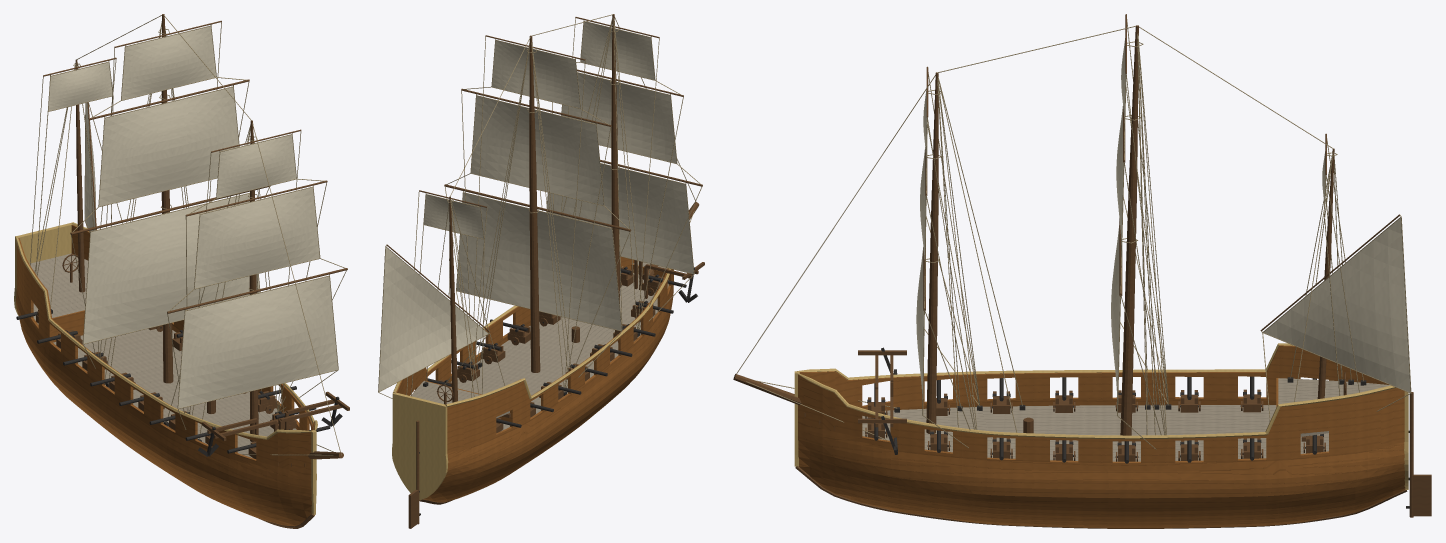
3 views of the same model, side by side, from view 1: azimuth 30°, elevation 25°; view 2: azimuth 150°, elevation 25°; view 3: azimuth 270°, elevation 25° (orthographic). The views are drawn at different scales.
Visible parts, largest first — view 1: lod2_hull_shell_starboard, lod2_fore_square_00, lod2_main_square_00, lod2_main_square_01, lod2_fore_square_01, lod2_main_deck, lod2_main_square_02, lod2_fore_square_02, lod2_castle_deck_0, lod2_mizzen_square_00, lod2_stern_closure, lod2_gunwale_starboard (+11 smaller); view 2: lod2_hull_shell_starboard, lod2_main_square_00, lod2_main_square_01, lod2_fore_square_00, lod2_mizzen_lateen_01, lod2_main_deck, lod2_fore_square_01, lod2_stern_closure, lod2_main_square_02, lod2_fore_square_02, lod2_main, lod2_hull_shell_port (+14 smaller); view 3: lod2_hull_shell_port, lod2_mizzen_lateen_01, lod2_hull_shell_starboard, lod2_main_deck, lod2_main, lod2_fore, lod2_gunwale_port, lod2_castle_deck_0, lod2_gunwale_starboard, lod2_keel, lod2_main_square_00, lod2_mizzen (+1 smaller).
Part boxes in pixels (<box>): lod2_hull_shell_starboard: <box>15,238,311,526</box>; lod2_fore_square_00: <box>178,276,337,408</box>; lod2_main_square_00: <box>83,193,259,343</box>; lod2_main_square_01: <box>99,87,238,206</box>; lod2_fore_square_01: <box>194,187,319,288</box>; lod2_main_deck: <box>33,303,296,457</box>; lod2_main_square_02: <box>121,26,216,99</box>; lod2_fore_square_02: <box>217,135,296,197</box>; lod2_castle_deck_0: <box>29,253,88,317</box>; lod2_mizzen_square_00: <box>48,62,112,111</box>; lod2_stern_closure: <box>14,222,72,315</box>; lod2_gunwale_starboard: <box>15,236,312,439</box>; lod2_hull_shell_starboard: <box>423,268,673,502</box>; lod2_main_square_00: <box>456,193,621,330</box>; lod2_main_square_01: <box>471,96,603,205</box>; lod2_fore_square_00: <box>547,164,693,273</box>; lod2_mizzen_lateen_01: <box>378,247,487,391</box>; lod2_main_deck: <box>451,273,668,430</box>; lod2_fore_square_01: <box>561,73,676,163</box>; lod2_stern_closure: <box>392,392,448,499</box>; lod2_main_square_02: <box>492,40,580,108</box>; lod2_fore_square_02: <box>580,22,654,79</box>; lod2_main: <box>529,35,540,372</box>; lod2_hull_shell_port: <box>396,256,638,395</box>; lod2_hull_shell_port: <box>798,374,1405,528</box>; lod2_mizzen_lateen_01: <box>1263,218,1410,392</box>; lod2_hull_shell_starboard: <box>799,345,1388,410</box>; lod2_main_deck: <box>862,404,1328,461</box>; lod2_main: <box>1120,25,1138,435</box>; lod2_fore: <box>926,72,938,433</box>; lod2_gunwale_port: <box>797,373,1396,439</box>; lod2_castle_deck_0: <box>1278,378,1390,436</box>; lod2_gunwale_starboard: <box>797,343,1293,379</box>; lod2_keel: <box>795,466,1407,528</box>; lod2_main_square_00: <box>1111,225,1120,399</box>; lod2_mizzen: <box>1317,148,1334,398</box>.
Size of the model in its own units: 9.21 by 19.61 by 24.65.
Materials: 7 (7 with a texture image).
